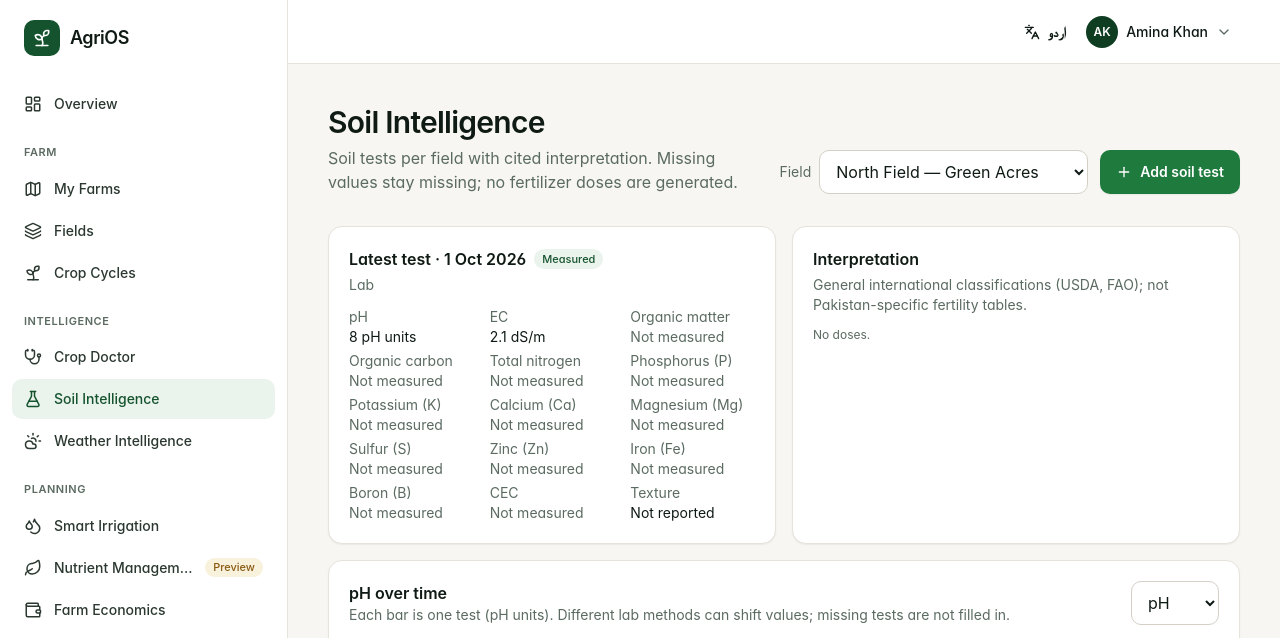
Soil Intelligence › charts any measure with two or more tests, with its unit
Expected: the heading "pH over time" is shown, x1=349 y1=583 x2=447 y2=603
Select "EC" in the dropdown named "Soil measure". click: (1175, 603)
box: x1=1131 y1=581 x2=1219 y2=625
(page scrolled)
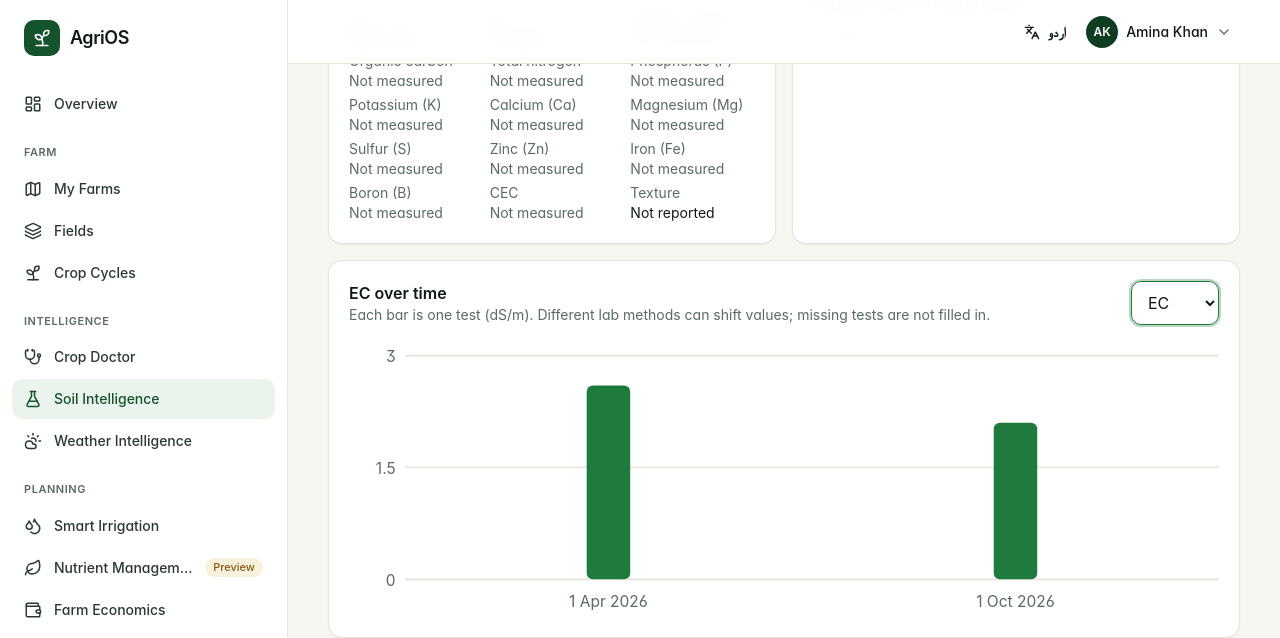
Expected: the picture "1 Apr 2026: EC 2.6 dS/m" is shown, x1=569 y1=592 x2=648 y2=611
Expected: the heading "EC over time" is shown, x1=349 y1=283 x2=447 y2=303
